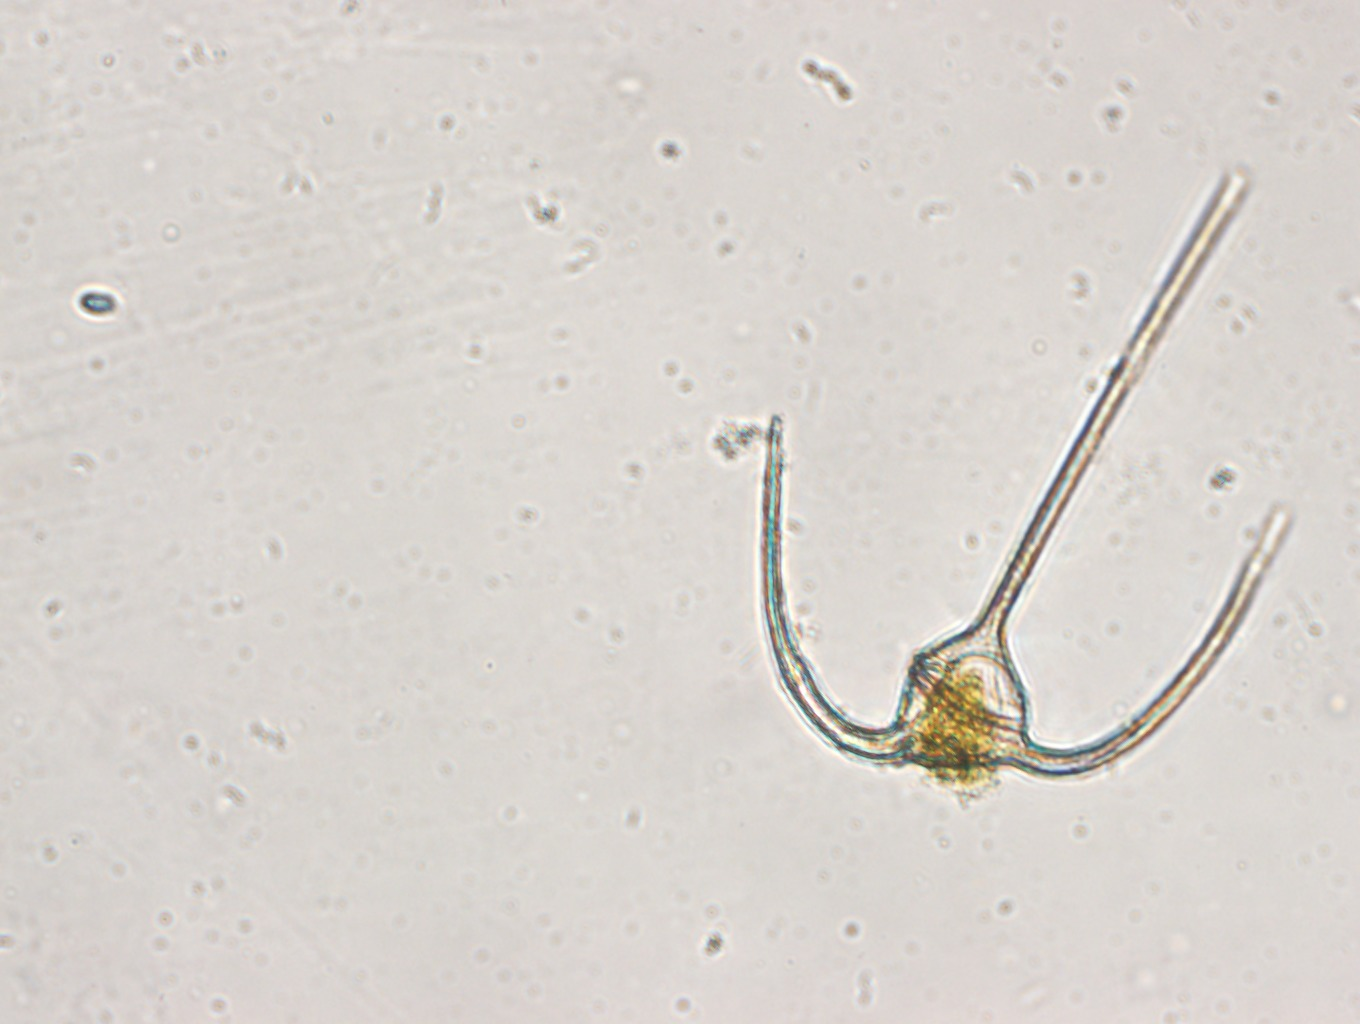ceratium trichoceros: (736, 157, 1303, 786)
